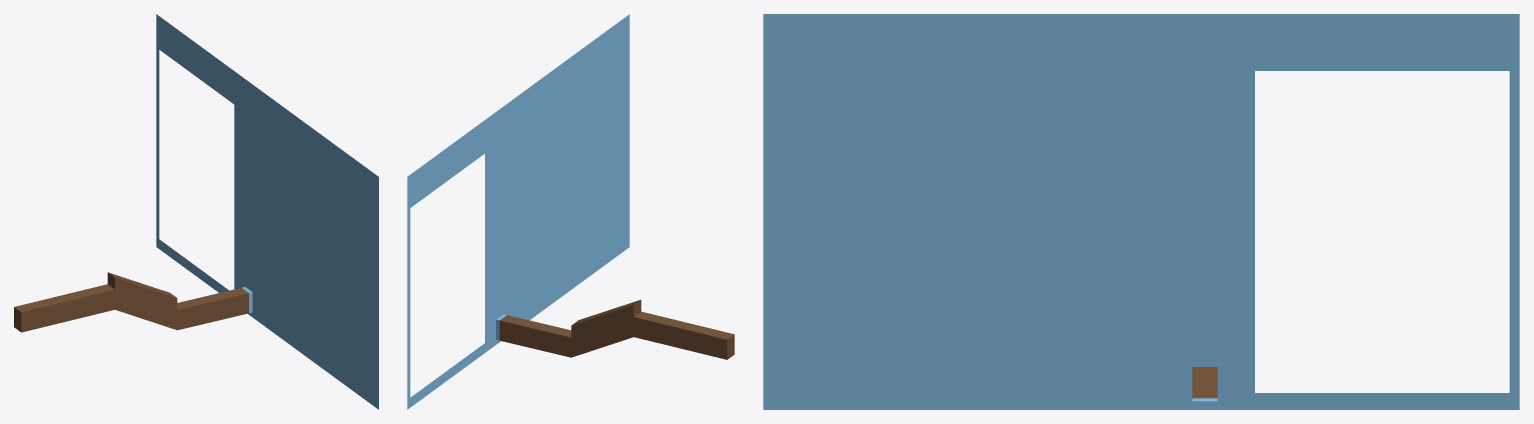
File: PortalWAall.fbx
3 renders of one model, left to right at view 1: azimuth 30°, elevation 25°; view 2: azimuth 150°, elevation 25°; view 3: azimuth 270°, elevation 25°, orthographic. The views are drawn at different scales.
Visible parts, largest first — view 1: Plane; view 2: Plane; view 3: Plane.
Boxes of the visible parts, x1,y1,x2,y2 form: Plane: [14, 14, 378, 409]; Plane: [407, 14, 734, 409]; Plane: [763, 14, 1519, 409].
Size of the model in its own units: 360 by 347 by 600.
